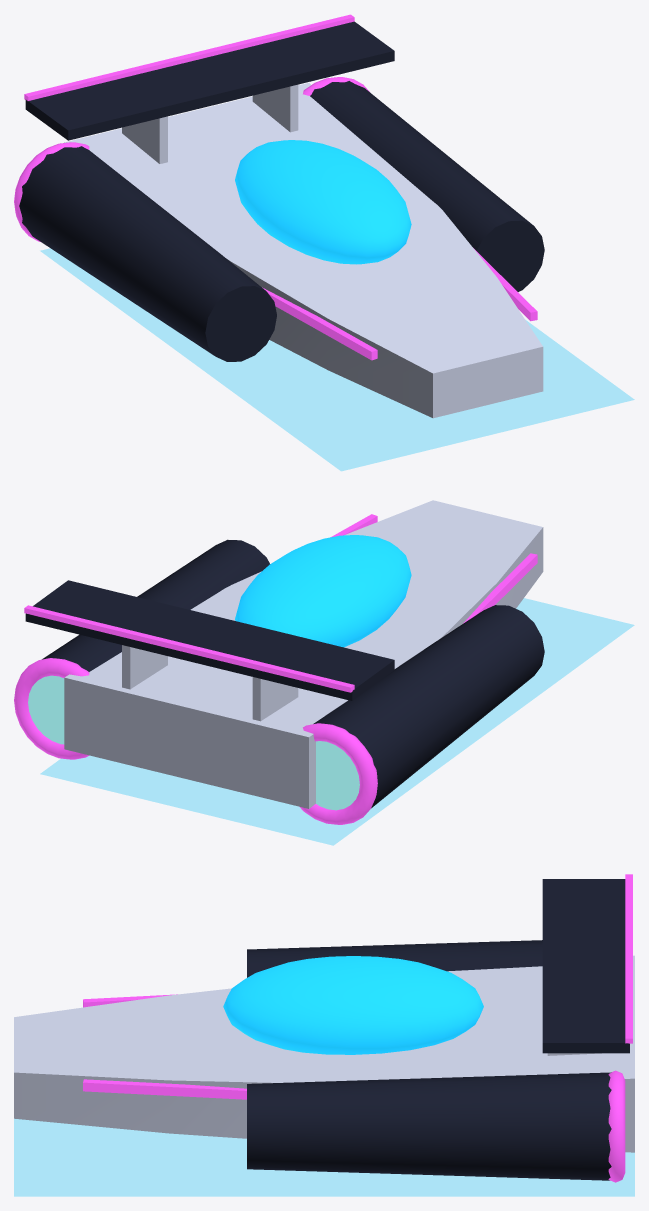
The model's file is car_reference.glb.
3 renders of one model, top to bottom at view 1: azimuth 30°, elevation 25°; view 2: azimuth 150°, elevation 25°; view 3: azimuth 270°, elevation 25°, orthographic. The views are drawn at different scales.
Parts seen in each view (by area): view 1: car_reference; view 2: car_reference; view 3: car_reference.
Part boxes in pixels (x1,y1,x2,y2): car_reference: (14, 14, 634, 470); car_reference: (14, 500, 634, 845); car_reference: (14, 874, 634, 1196).
Size of the model in its own units: 2.77 by 1.18 by 4.
